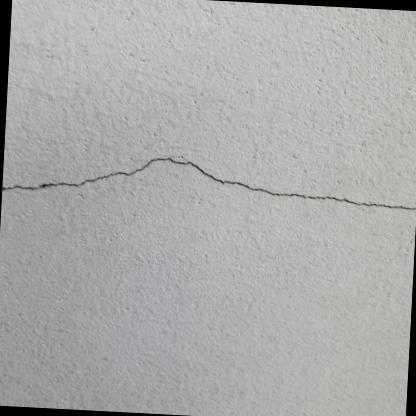crack: (1, 157, 416, 210)
